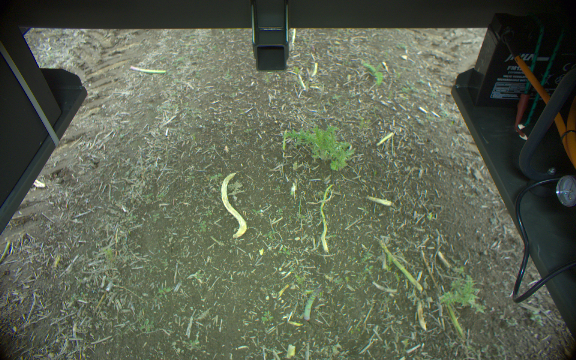aspa: (371, 237, 423, 294), (302, 285, 322, 321), (128, 64, 167, 76)
